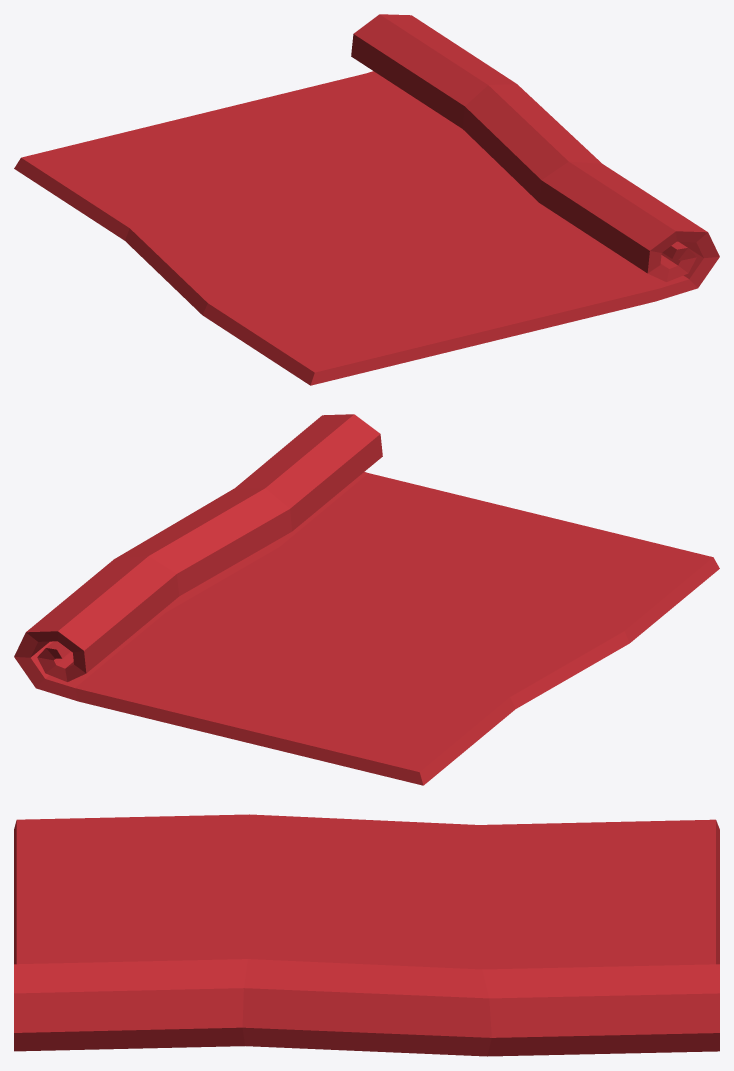
Rendered from egypt-rug.glb.
3 renders of one model, top to bottom at view 1: azimuth 30°, elevation 25°; view 2: azimuth 150°, elevation 25°; view 3: azimuth 270°, elevation 25°, orthographic. The views are drawn at different scales.
Visible parts, largest first — view 1: egypt-rug; view 2: egypt-rug; view 3: egypt-rug.
Part boxes in pixels (<box>): egypt-rug: <box>14,14,719,385</box>; egypt-rug: <box>14,414,719,785</box>; egypt-rug: <box>14,814,719,1056</box>.
Size of the model in its own units: 1.42 by 0.2079 by 1.71.
1 material, 1 textured.
